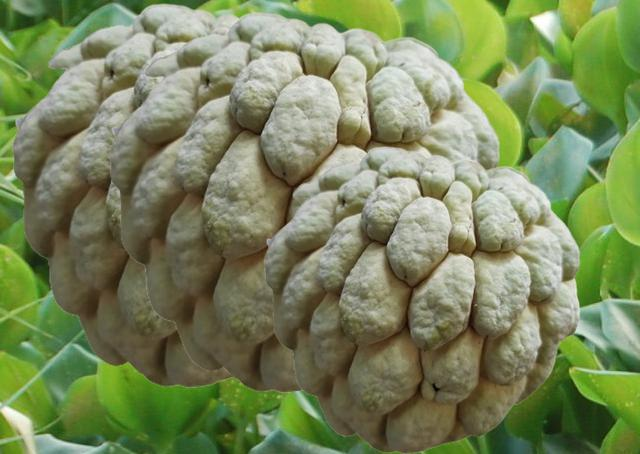atis: (108, 12, 499, 391), (263, 146, 579, 452), (11, 3, 238, 386)
